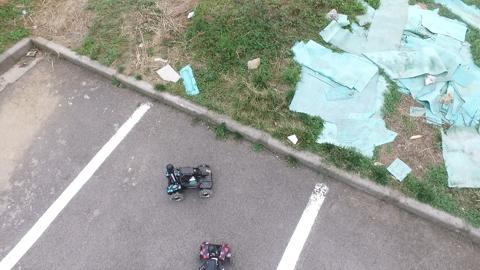chariot: (158, 157, 220, 205)
